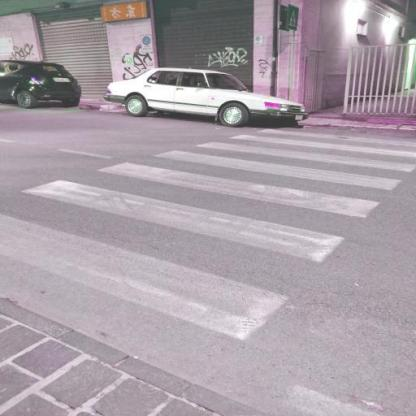crosswalk: (14, 158, 384, 265)
